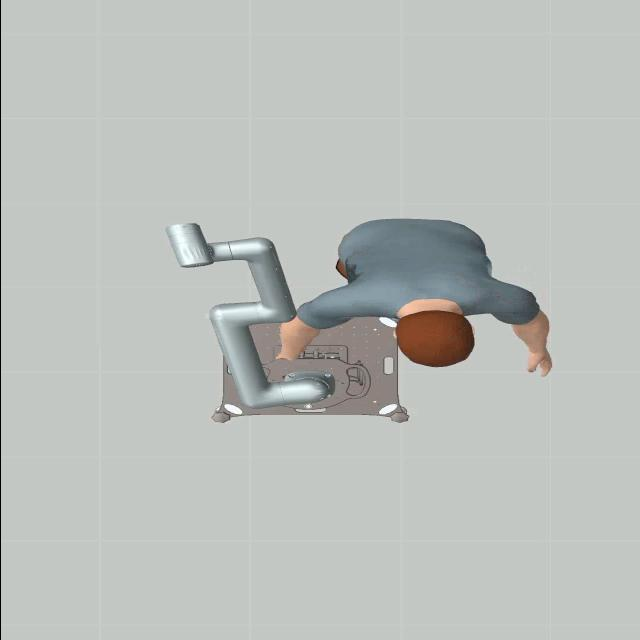human: (270, 209, 574, 379)
robot: (162, 218, 342, 420)
